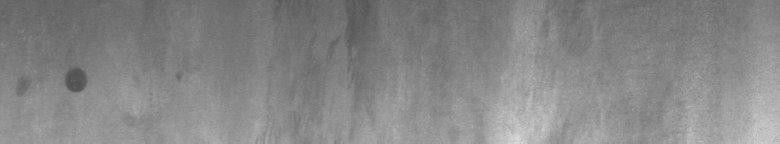fi: (17, 62, 92, 100)
